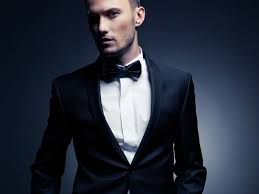bow: (96, 58, 145, 84)
